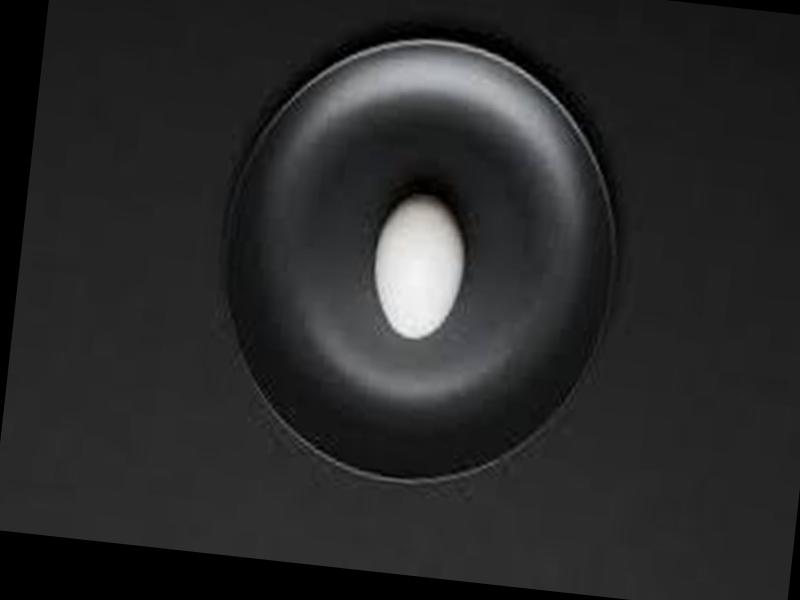Eggs: (367, 192, 472, 342)
